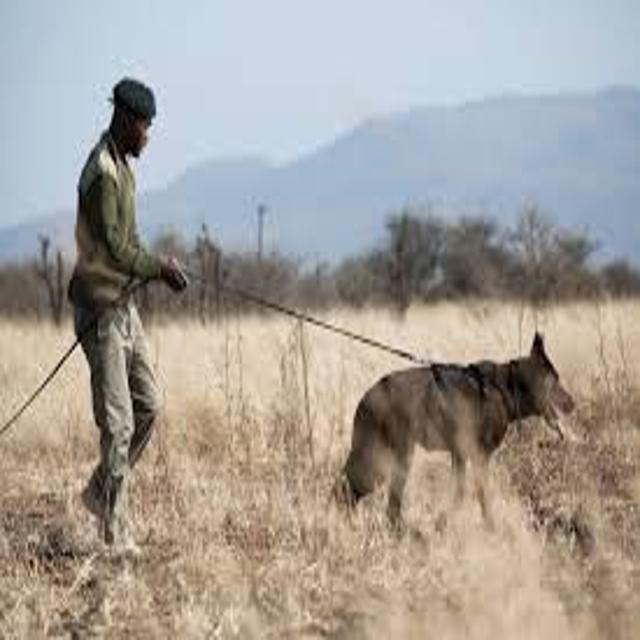dog: (312, 305, 606, 557)
poacher: (1, 49, 273, 577)
